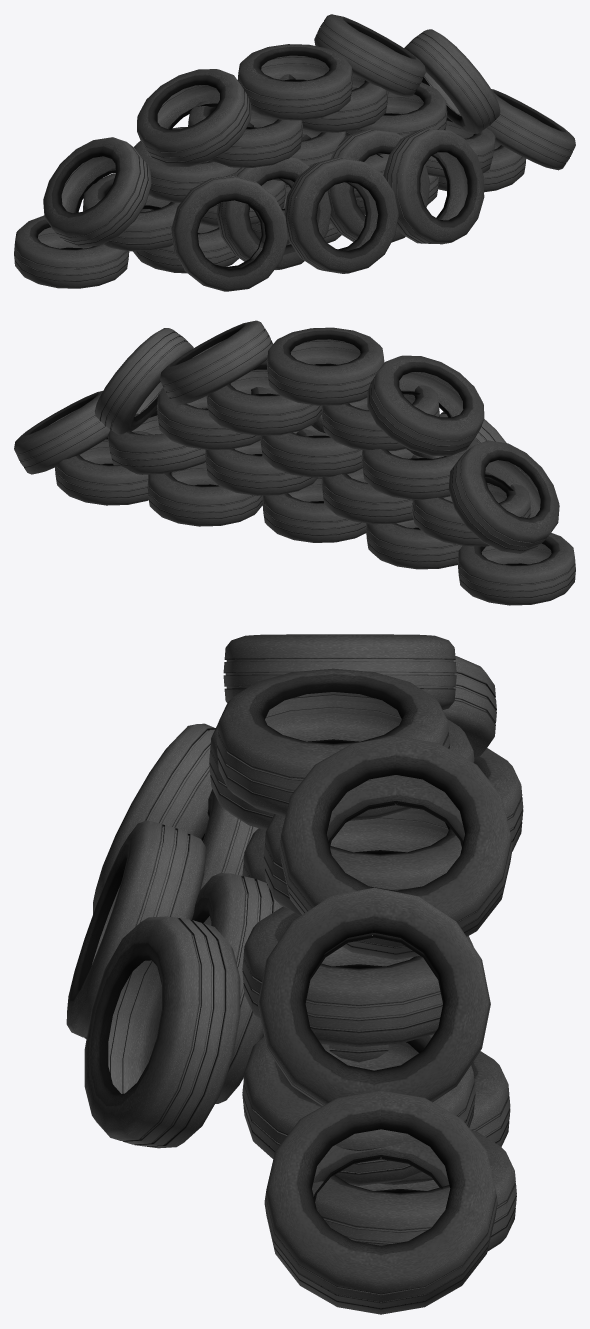
The model's file is Barrier4Tires.fbx.
3 renders of one model, top to bottom at view 1: azimuth 30°, elevation 25°; view 2: azimuth 150°, elevation 25°; view 3: azimuth 270°, elevation 25°, orthographic. The views are drawn at different scales.
Parts seen in each view (by area): view 1: Barrier4Tires; view 2: Barrier4Tires; view 3: Barrier4Tires.
Part boxes in pixels (x1,y1,x2,y2): Barrier4Tires: [14, 14, 575, 291]; Barrier4Tires: [14, 320, 575, 605]; Barrier4Tires: [66, 634, 523, 1314].
Size of what is drawn, in the model's own units: 641 by 212 by 235.
